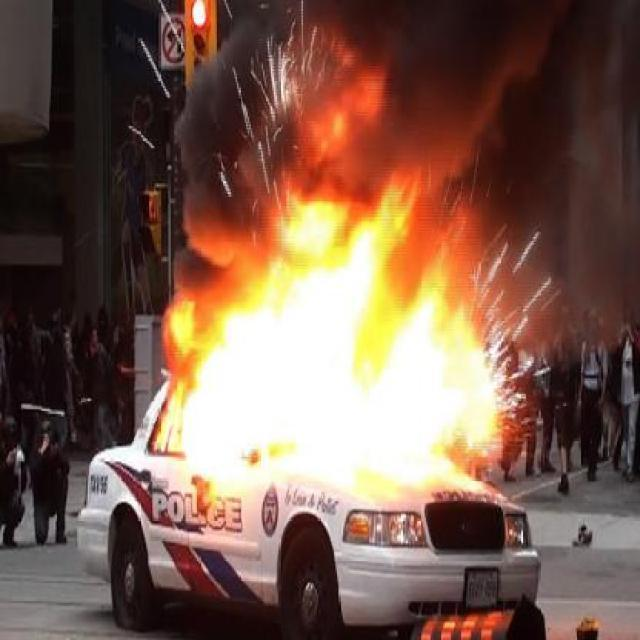Fire: (154, 197, 520, 485)
Smoke: (173, 0, 640, 202)
